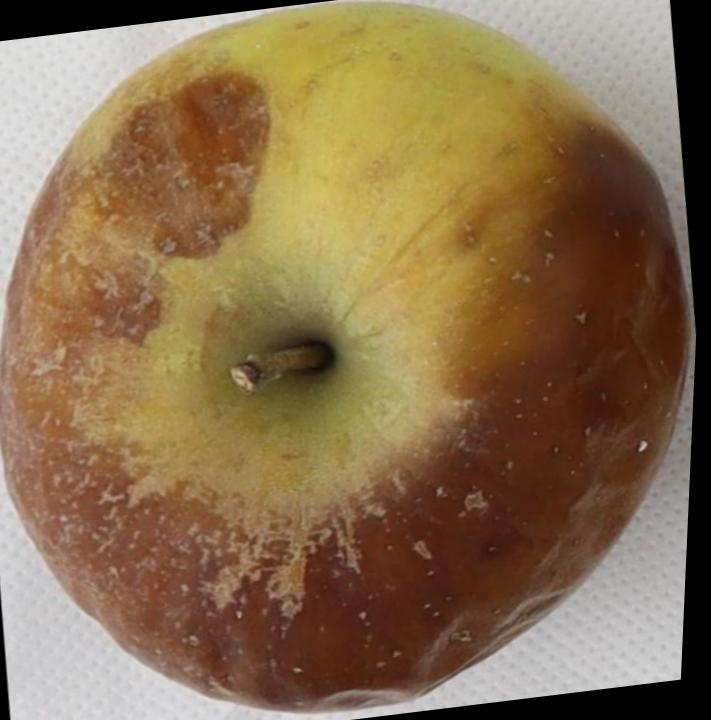apple: (0, 3, 688, 710)
rot_mold_decay: (0, 73, 687, 711)
